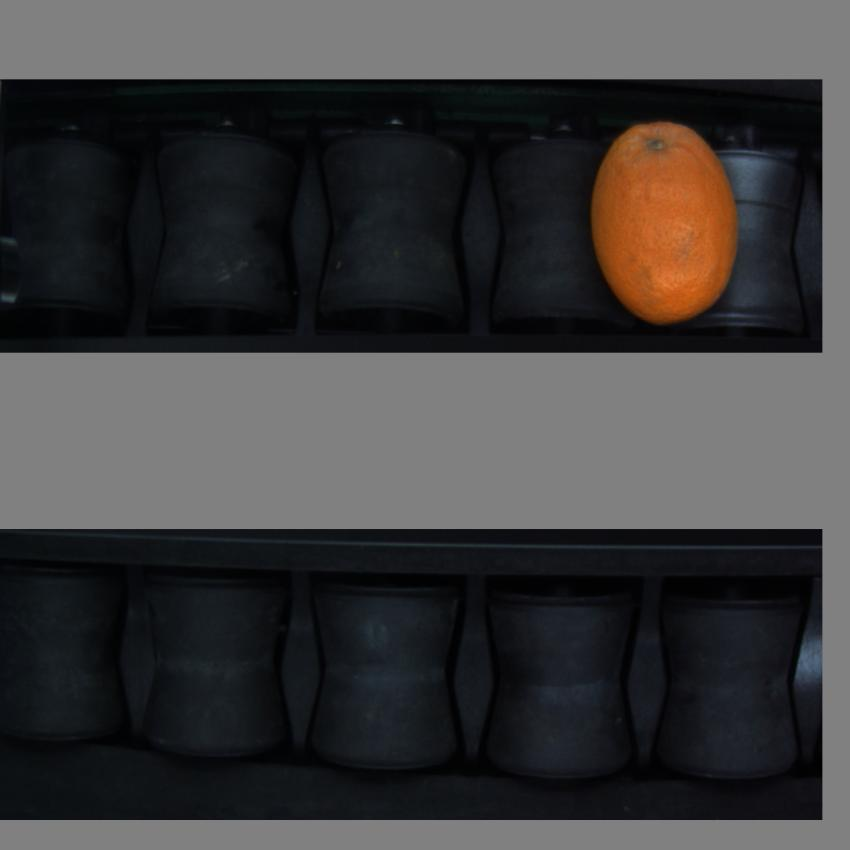Mal estado: (581, 113, 752, 334)
